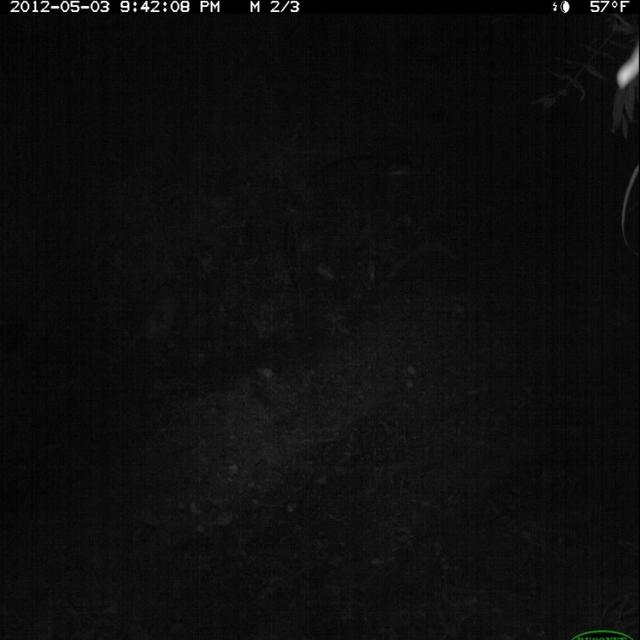opossum: (124, 278, 186, 358)
